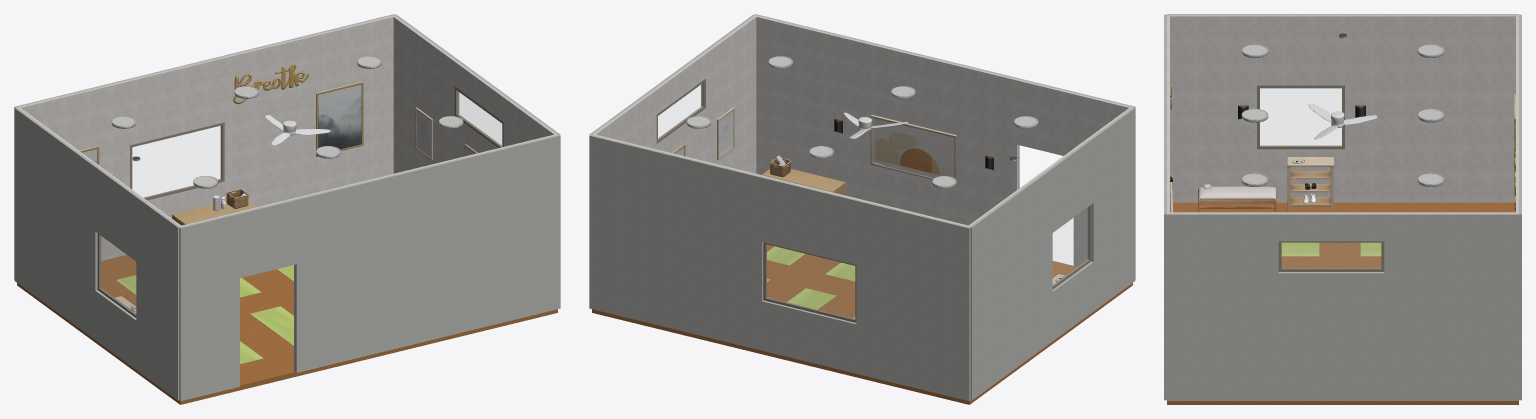
The model's file is scene_web.glb.
3 renders of one model, left to right at view 1: azimuth 30°, elevation 25°; view 2: azimuth 150°, elevation 25°; view 3: azimuth 270°, elevation 25°, orthographic. The views are drawn at different scales.
Visible parts, largest first — view 1: geometry_0.003, geometry_0, geometry_0.007, geometry_0.004, Mesh_0, glass, geometry_0.017, glass.002, glass.001, geometry_0.002, frame, geometry_0.001 (+9 smaller); view 2: geometry_0.001, geometry_0.002, geometry_0.007, geometry_0.004, Mesh_0, glass, geometry_0.018, glass.002, glass.001, geometry_0.003, geometry_0.008, frame (+7 smaller); view 3: geometry_0.005, geometry_0.006, Mesh_0, glass.002, glass.001, geometry_0.014, geometry_0.009, geometry_0.001, geometry_0.003, frame.002, frame.001, geometry_0.034 (+7 smaller).
Part boxes in pixels (x1,y1,x2,y2): geometry_0.003: (179, 135, 560, 401); geometry_0: (19, 16, 393, 260); geometry_0.007: (14, 107, 179, 400); geometry_0.004: (392, 15, 557, 173); Mesh_0: (17, 255, 557, 404); glass: (132, 126, 220, 197); geometry_0.017: (316, 81, 363, 156); glass.002: (100, 235, 135, 313); glass.001: (457, 91, 501, 146); geometry_0.002: (181, 134, 555, 371); frame: (130, 122, 224, 200); geometry_0.001: (14, 14, 395, 279); geometry_0.001: (589, 135, 970, 401); geometry_0.002: (756, 16, 1130, 267); geometry_0.007: (970, 107, 1135, 400); geometry_0.004: (592, 15, 757, 173); Mesh_0: (592, 244, 1132, 404); glass: (766, 245, 854, 318); geometry_0.018: (870, 115, 956, 181); glass.002: (1053, 207, 1088, 285); glass.001: (658, 83, 703, 138); geometry_0.003: (754, 14, 1135, 279); geometry_0.008: (762, 169, 845, 195); frame: (763, 242, 856, 322); geometry_0.005: (1167, 213, 1518, 400); geometry_0.006: (1167, 15, 1518, 202); Mesh_0: (1167, 202, 1518, 404); glass.002: (1260, 88, 1341, 145); glass.001: (1282, 243, 1380, 268); geometry_0.014: (1287, 157, 1333, 210); geometry_0.009: (1198, 186, 1276, 212); geometry_0.001: (1519, 14, 1521, 400); geometry_0.003: (1164, 14, 1166, 400); frame.002: (1257, 85, 1344, 149); frame.001: (1278, 241, 1384, 271); geometry_0.034: (1308, 103, 1377, 139).
Size of the model in its own units: 8.1 by 3.6 by 6.1.
37 materials, 35 textured.
